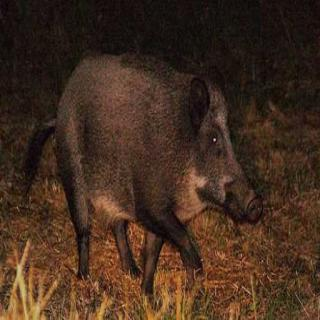Pig: (57, 35, 265, 282)
